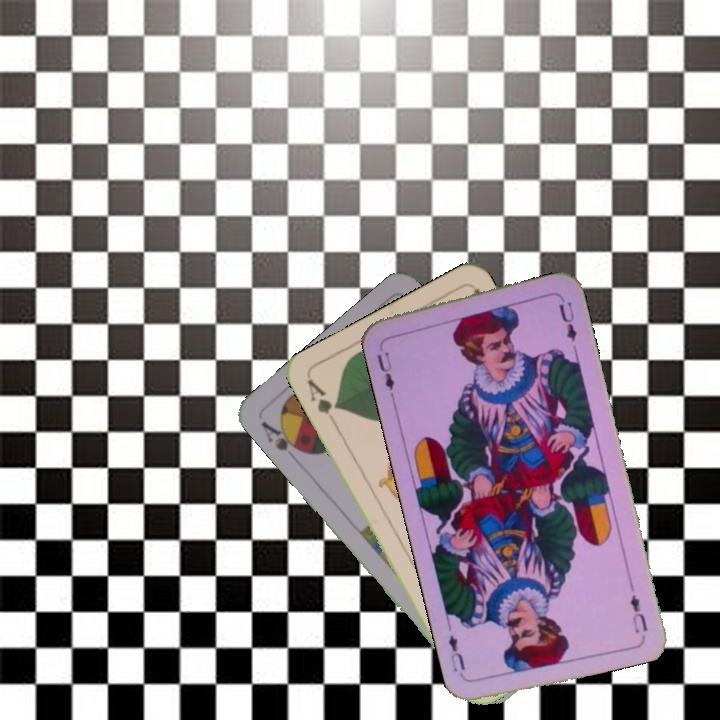EU: (373, 340, 397, 393), (626, 591, 650, 636)
GA: (303, 375, 341, 428)
SA: (257, 417, 308, 456)
